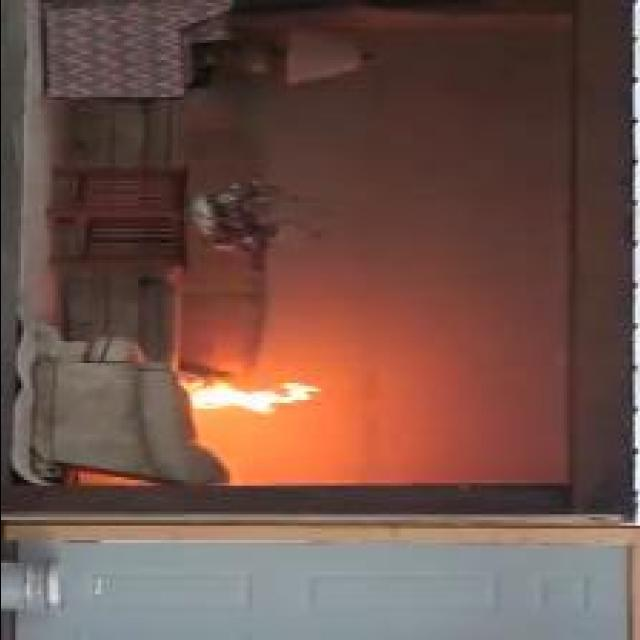Fire: (190, 383, 324, 411)
